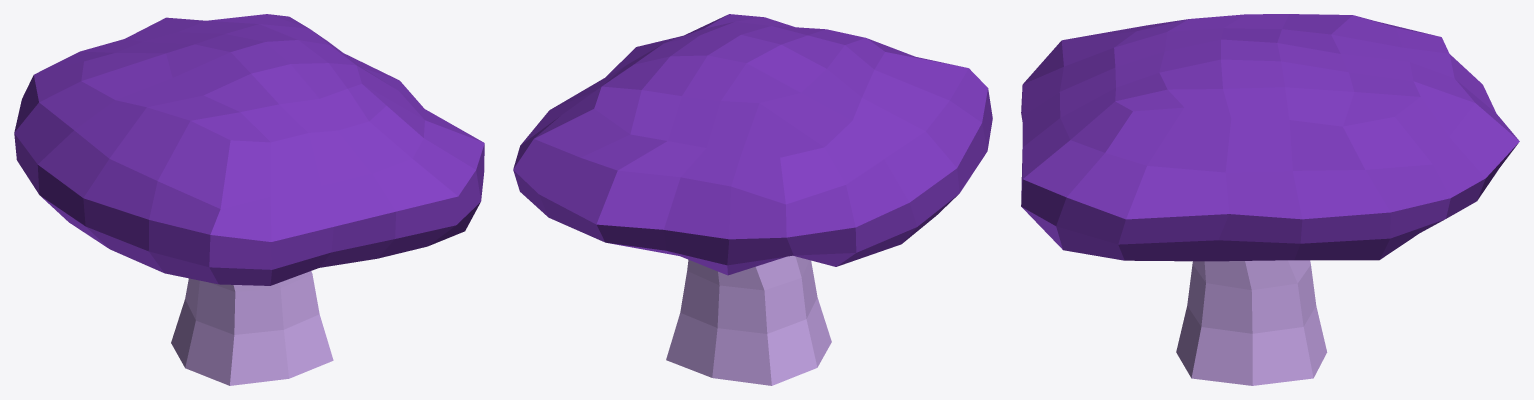
Rendered from Mushroom.fbx.
3 views of the same model, side by side, from view 1: azimuth 30°, elevation 25°; view 2: azimuth 150°, elevation 25°; view 3: azimuth 270°, elevation 25° (orthographic). The views are drawn at different scales.
Parts seen in each view (by area): view 1: Mushroom; view 2: Mushroom; view 3: Mushroom.
Boxes of the visible parts, box(x1,y1,x2,y2) form: Mushroom: box(14, 14, 484, 385); Mushroom: box(513, 14, 992, 385); Mushroom: box(1021, 14, 1519, 385).
Bounding box in the file's own units: 766 × 596 × 884.
